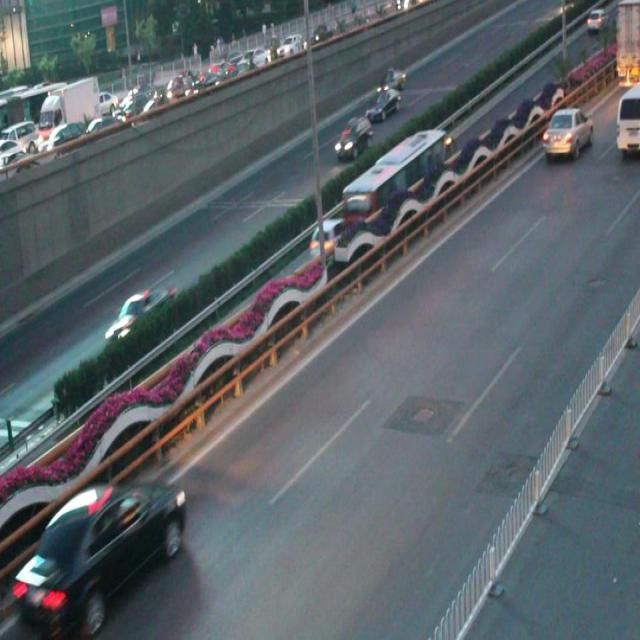car: (21, 484, 189, 630), (106, 288, 178, 345), (541, 108, 592, 160), (307, 215, 348, 258), (333, 117, 370, 163), (363, 82, 400, 124), (380, 67, 408, 94)
truck: (612, 88, 640, 159)
van: (342, 128, 448, 236)
